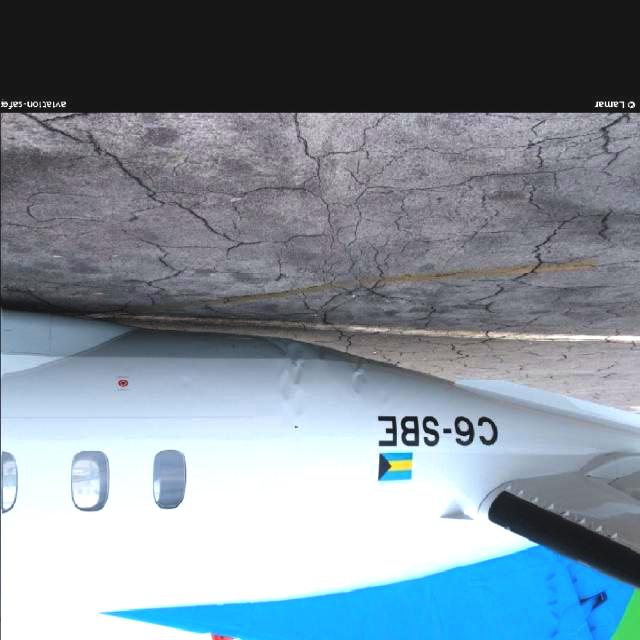dent: (273, 336, 315, 423), (346, 355, 367, 397)
